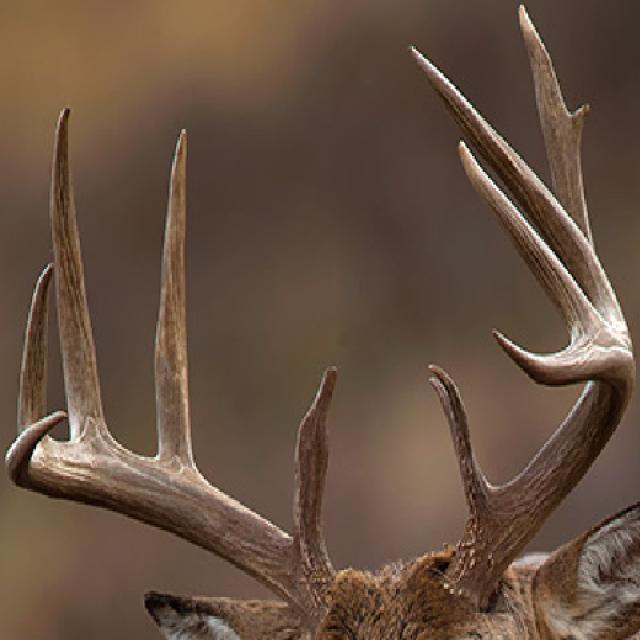L-G1: (426, 361, 497, 525)
R-F: (4, 408, 340, 636)
R-G1: (293, 366, 338, 571)
R-G2: (154, 129, 194, 465)
R-G3: (48, 104, 115, 446)
